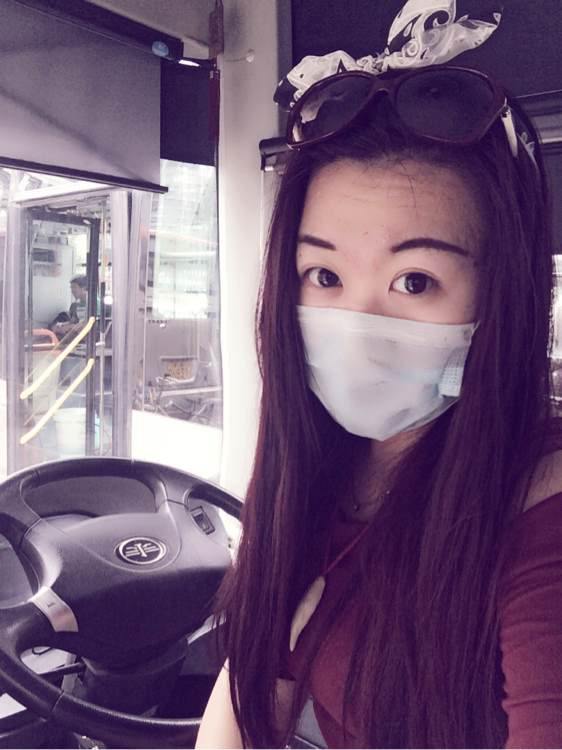face_mask: (290, 142, 479, 444)
